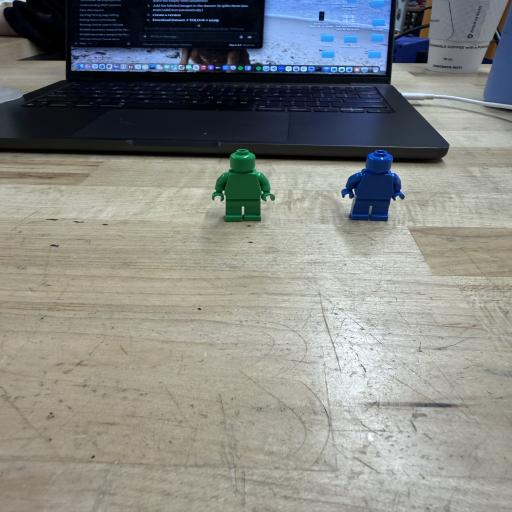blue-minifig: (342, 150, 404, 221)
green-minifig: (212, 149, 275, 222)
